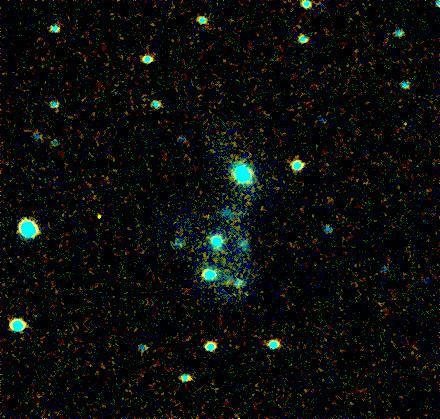star: (83, 200, 113, 230)
